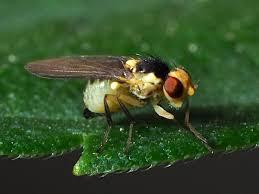Trifoli: (25, 45, 208, 151)
